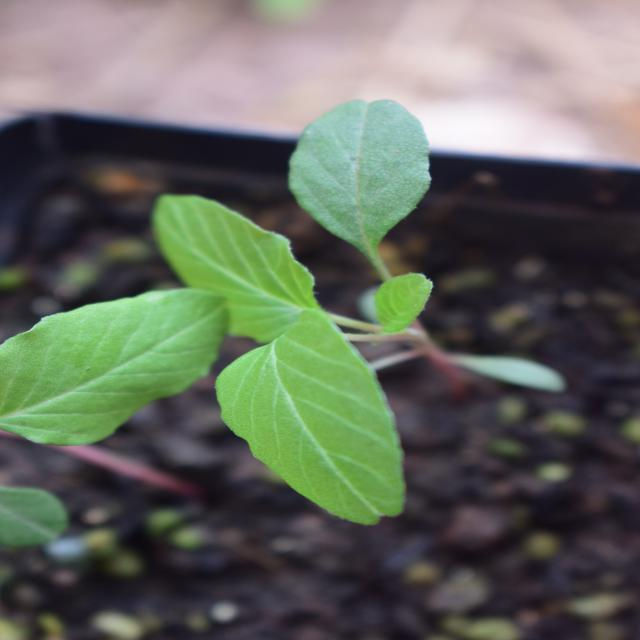pigweed: (117, 154, 546, 466)
